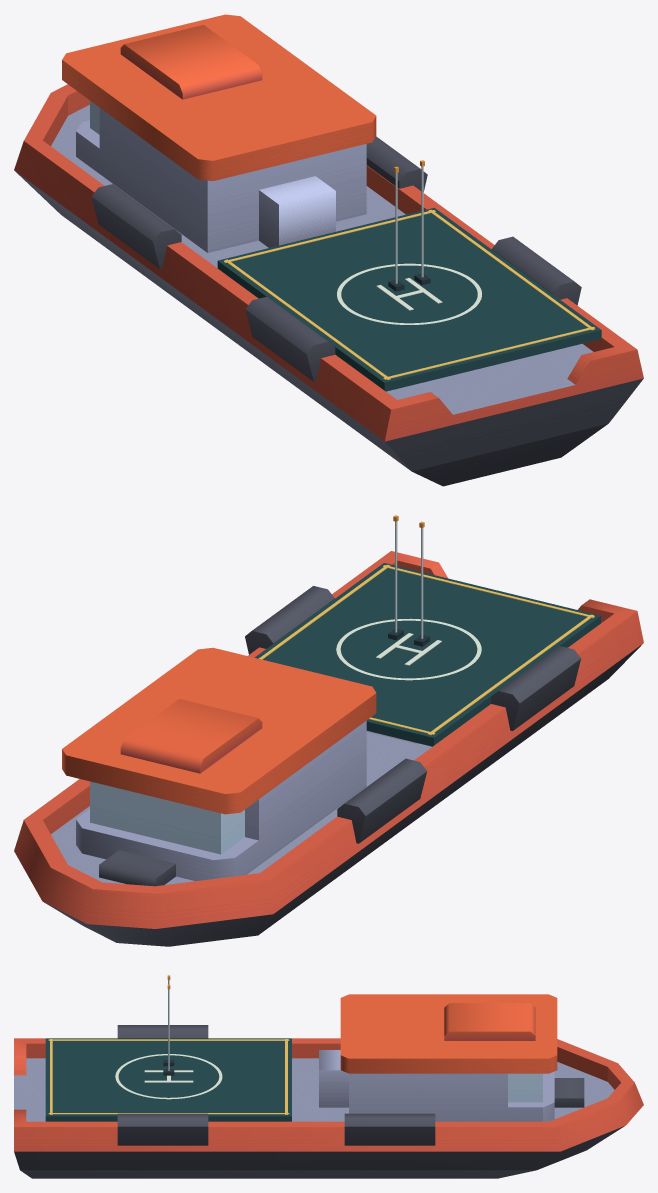
File: moving-platform.glb
3 renders of one model, top to bottom at view 1: azimuth 30°, elevation 25°; view 2: azimuth 150°, elevation 25°; view 3: azimuth 270°, elevation 25°, orthographic. The views are drawn at different scales.
Parts seen in each view (by area): view 1: ship-cargo-c_1, landing-deck, deck-safety-edge (×2), landing-ring; view 2: ship-cargo-c_1, landing-deck, deck-safety-edge (×2), landing-ring; view 3: ship-cargo-c_1, landing-deck, deck-safety-edge (×2), landing-ring.
Boxes of the visible parts, bbox=[...] form: ship-cargo-c_1: bbox=[14, 14, 643, 486]; landing-deck: bbox=[217, 207, 601, 391]; deck-safety-edge (×2): bbox=[224, 209, 594, 380]; landing-ring: bbox=[337, 263, 481, 324]; ship-cargo-c_1: bbox=[14, 551, 643, 946]; landing-deck: bbox=[254, 563, 600, 746]; deck-safety-edge (×2): bbox=[382, 565, 594, 735]; landing-ring: bbox=[336, 618, 481, 680]; ship-cargo-c_1: bbox=[14, 994, 643, 1178]; landing-deck: bbox=[45, 1038, 291, 1121]; deck-safety-edge (×2): bbox=[48, 1039, 289, 1114]; landing-ring: bbox=[115, 1054, 222, 1099].
Size of the model in its own units: 3.8 by 3.17 by 10.23.
Materials: 16 (1 with a texture image).
